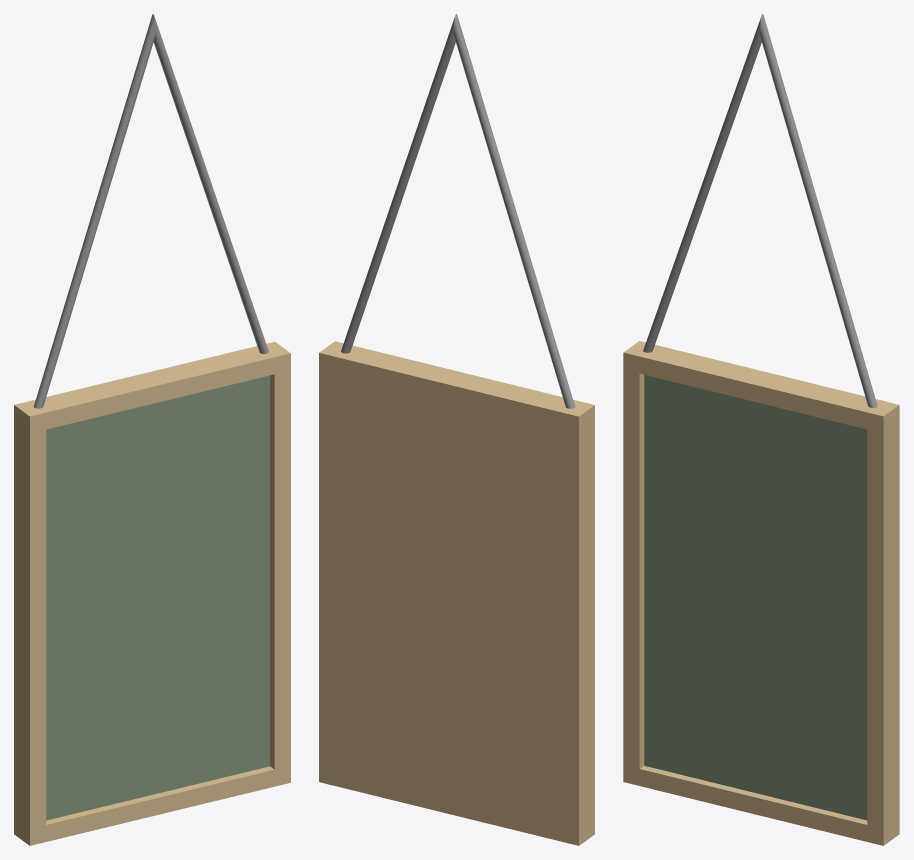
File: 974_hanging_board.glb
The picture shows the model from 3 angles, left to right: view 1: azimuth 30°, elevation 25°; view 2: azimuth 150°, elevation 25°; view 3: azimuth 330°, elevation 25°; orthographic projection.
Visible parts, largest first — view 1: Body1; view 2: Body1; view 3: Body1.
Boxes of the visible parts, x1,y1,x2,y2 form: Body1: (14,14,290,845); Body1: (319,14,594,845); Body1: (623,14,899,845).
Bounding box in the file's own units: 0.2292 × 0.6672 × 0.0249.
